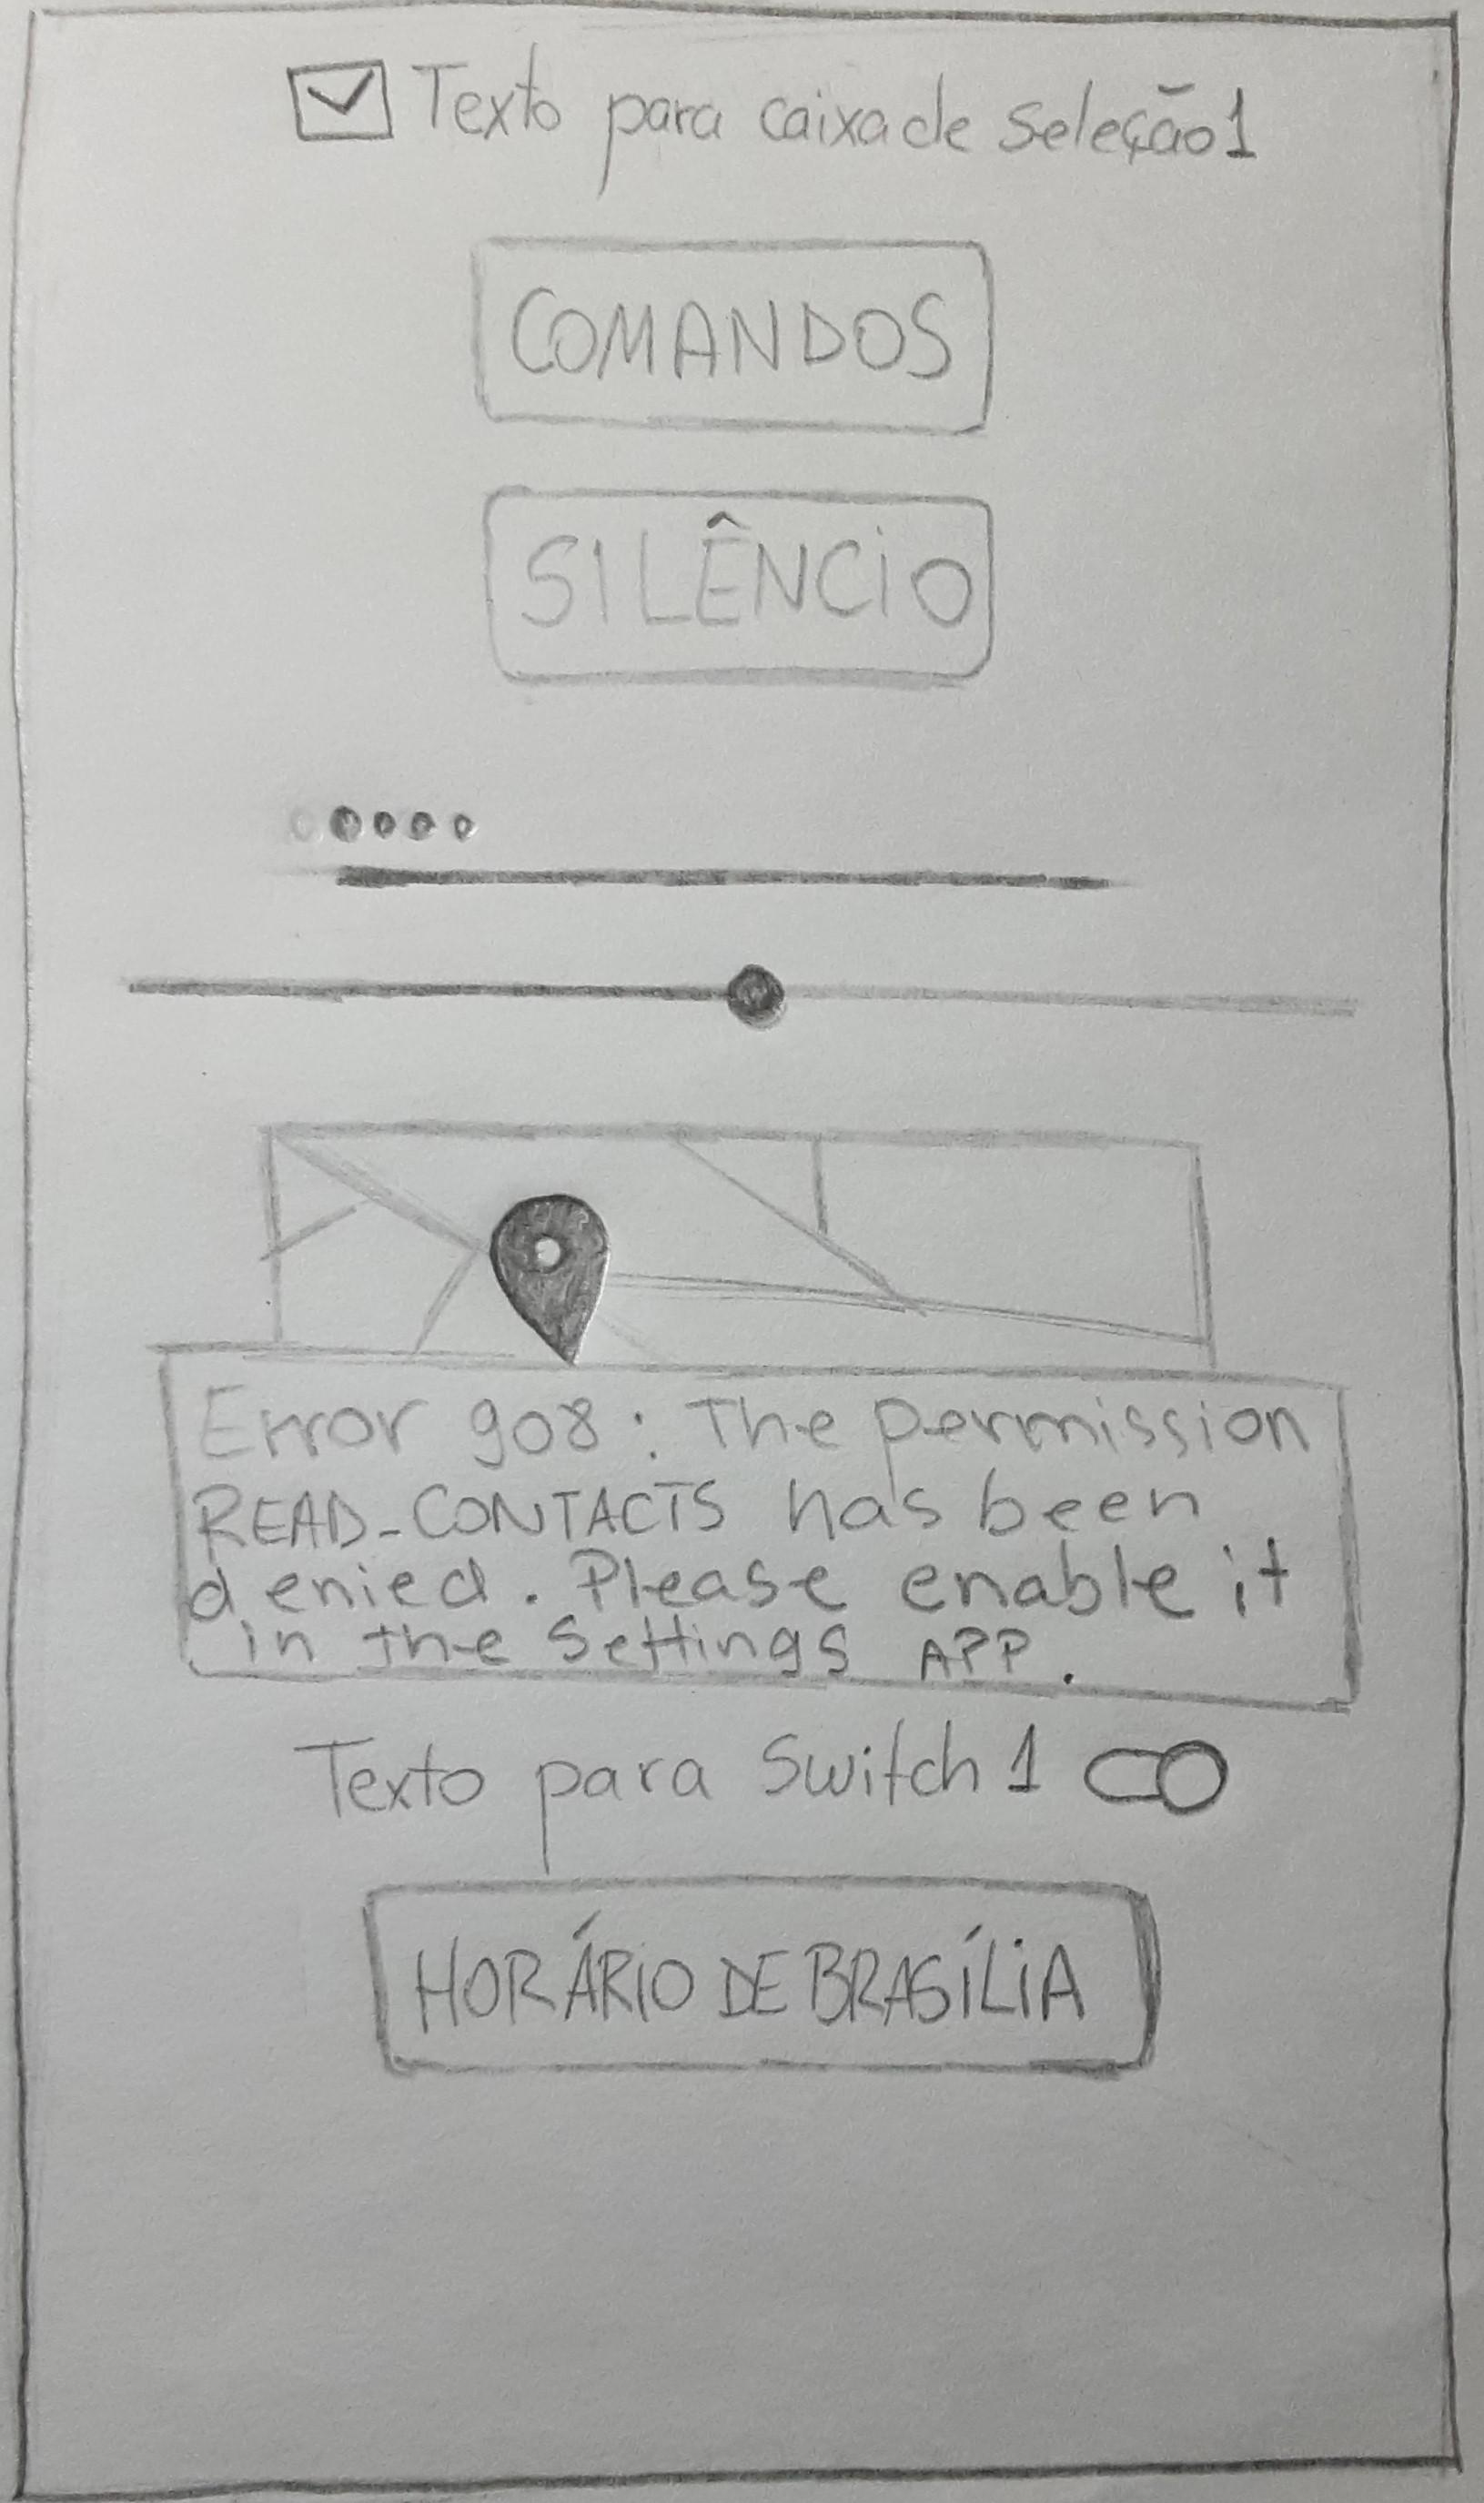Button: (155, 1344, 1364, 1713), (362, 1878, 1159, 2079), (466, 233, 993, 435), (482, 488, 993, 684)
CheckBox: (286, 44, 1260, 196)
Label: (306, 786, 1129, 910)
Map: (261, 1123, 1221, 1378)
Screen: (12, 4, 1466, 2499)
Slider: (122, 961, 1366, 1026)
Switch: (297, 1720, 1233, 1879)
